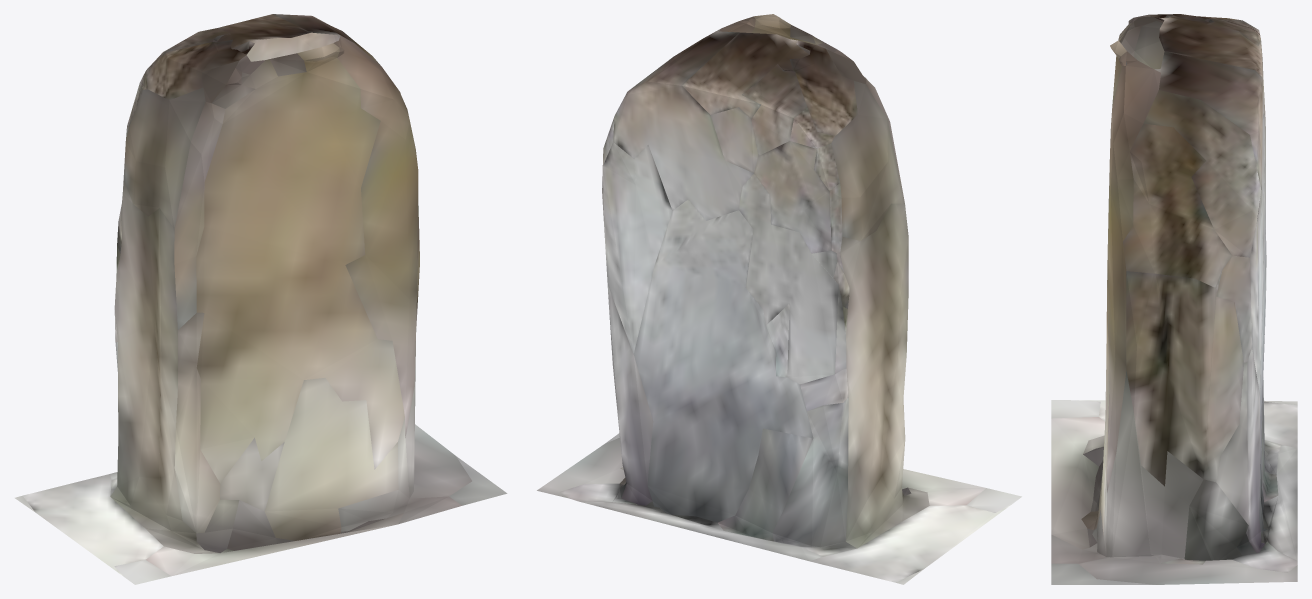
File: stela-tikal.lod1.glb
3 renders of one model, left to right at view 1: azimuth 30°, elevation 25°; view 2: azimuth 150°, elevation 25°; view 3: azimuth 270°, elevation 25°, orthographic. The views are drawn at different scales.
Parts seen in each view (by area): view 1: Object_2; view 2: Object_2; view 3: Object_2.
Part boxes in pixels (x1=…): Object_2: x1=15, y1=14, x2=507, y2=584; Object_2: x1=537, y1=14, x2=1021, y2=584; Object_2: x1=1051, y1=14, x2=1297, y2=584.
Bounding box in the file's own units: 1.86 × 2.3 × 1.05.
Materials: 1 (1 with a texture image).
